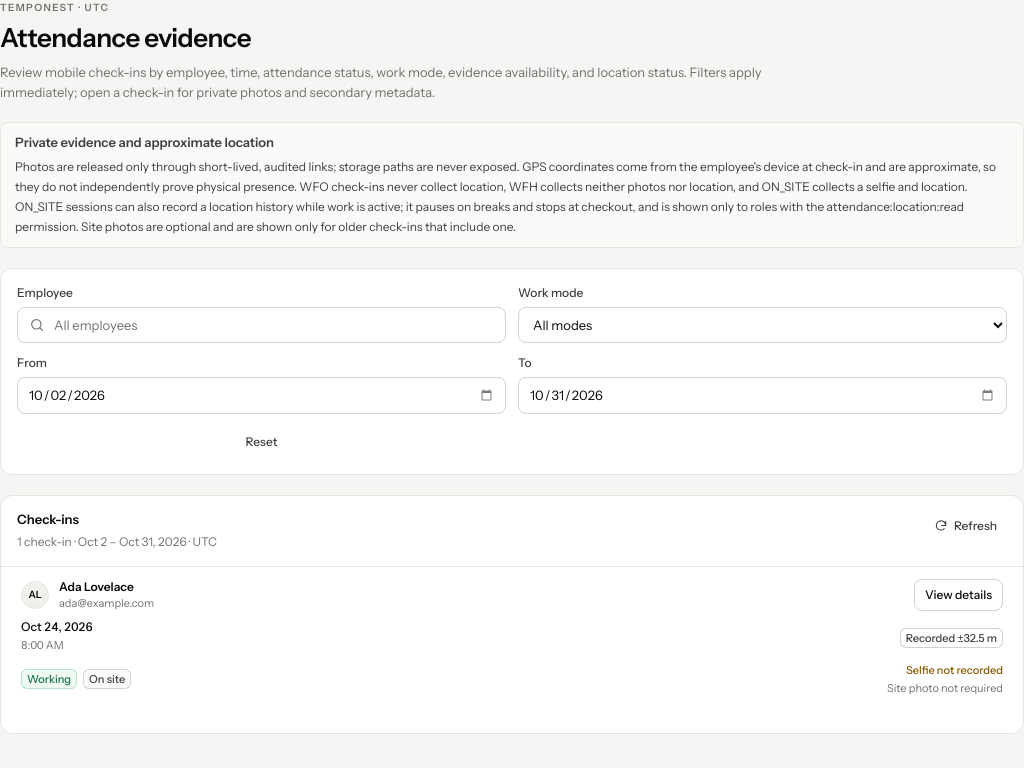
it: AttendanceEvidenceView › renders the location history, gaps, and session markers for authorized admins
What coordinates should you click on to do the following:
click the button with aria-label "View attendance details for"
I would click on:
 (958, 595)
Its box is x1=914 y1=579 x2=1003 y2=611.
(page scrolled)
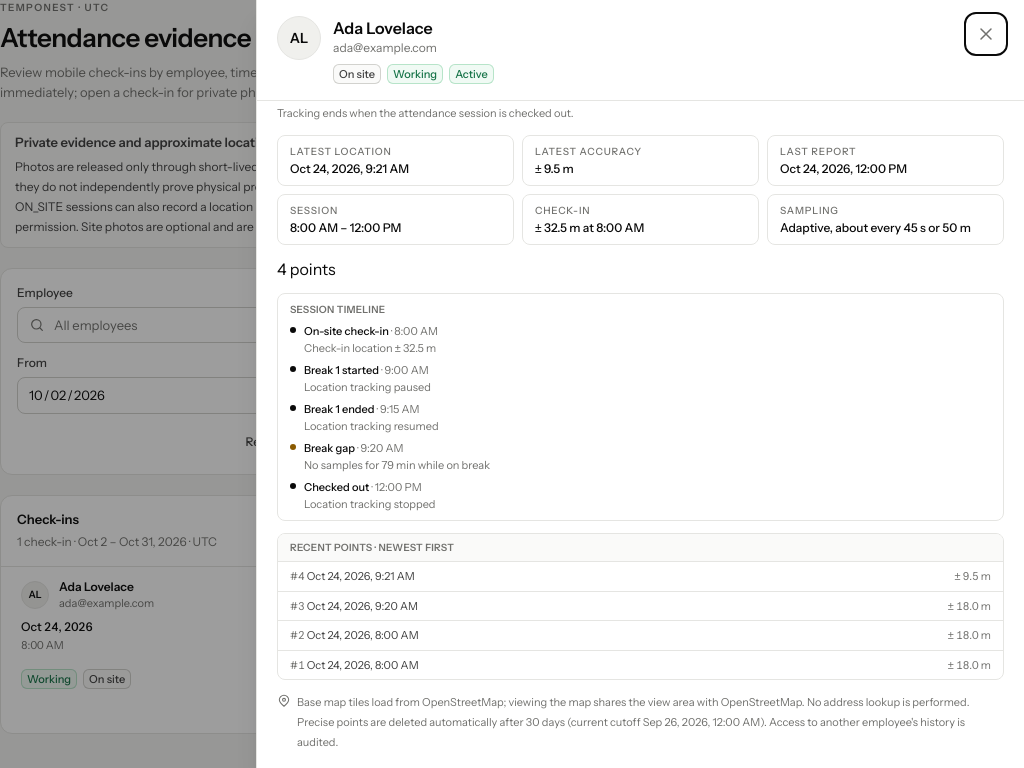
expect the text "± 9.5 m" below "Latest accuracy" is shown: met, box x1=535 y1=161 x2=574 y2=176
expect the text "On-site check-in" is shown: met, box x1=304 y1=324 x2=389 y2=338
expect the text "Break 1 started" is shown: met, box x1=304 y1=363 x2=379 y2=377
